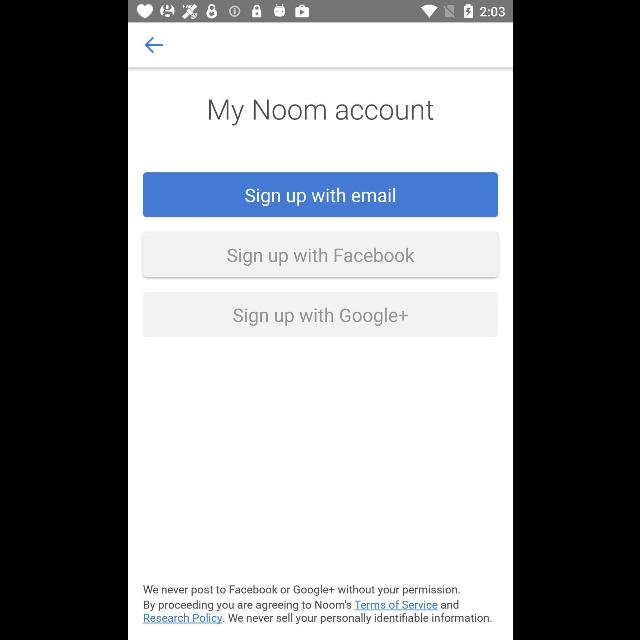icon: (144, 36, 162, 54)
text: (141, 584, 491, 624), (208, 100, 432, 126)
textbutton: (142, 292, 498, 338), (142, 232, 498, 278), (142, 172, 498, 218)
toolbar: (128, 23, 512, 67)
uppertaskbar: (128, 1, 512, 23)
